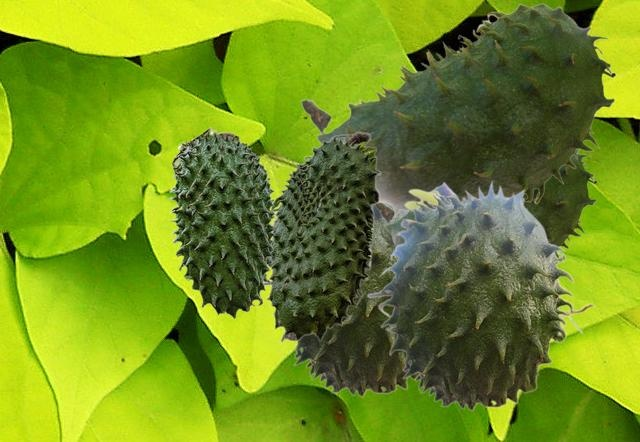guyabano: (300, 3, 615, 218), (366, 179, 594, 411), (265, 204, 416, 397), (264, 131, 380, 341), (374, 150, 596, 249), (168, 126, 277, 318)
